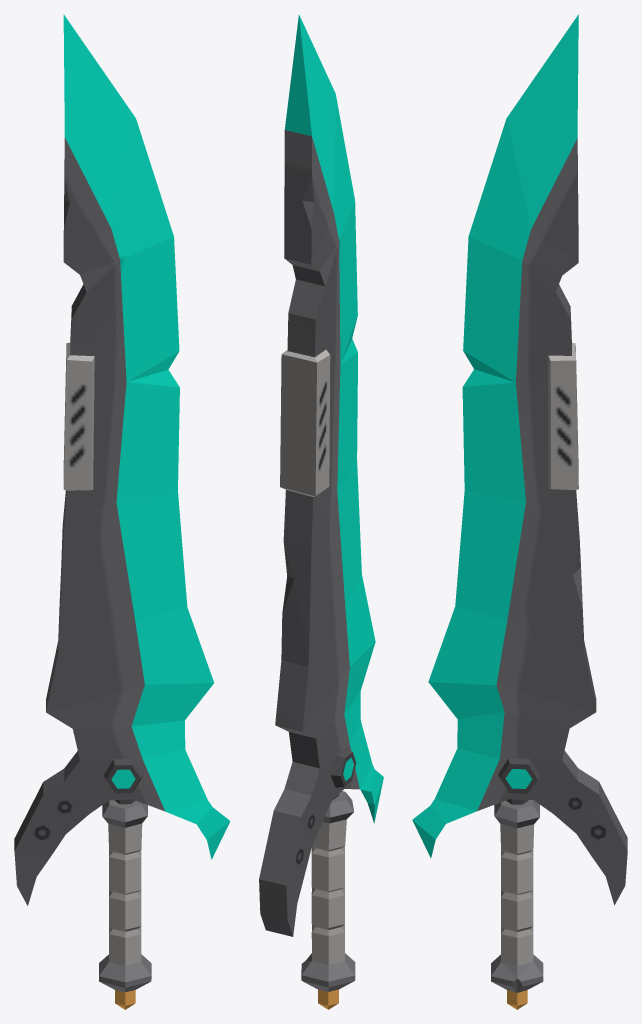
Rendered from SM_Wep_Sword_05.fbx.
3 views of the same model, side by side, from view 1: azimuth 90°, elevation 25°; view 2: azimuth 150°, elevation 25°; view 3: azimuth 270°, elevation 25° (orthographic). The views are drawn at different scales.
Parts seen in each view (by area): view 1: SM_Wep_Sword_05; view 2: SM_Wep_Sword_05; view 3: SM_Wep_Sword_05.
Boxes of the visible parts, bbox=[...] form: SM_Wep_Sword_05: bbox=[14, 14, 230, 1009]; SM_Wep_Sword_05: bbox=[259, 14, 383, 1009]; SM_Wep_Sword_05: bbox=[412, 14, 627, 1009].
Bounding box in the file's own units: 8.07 × 149 × 29.33.
